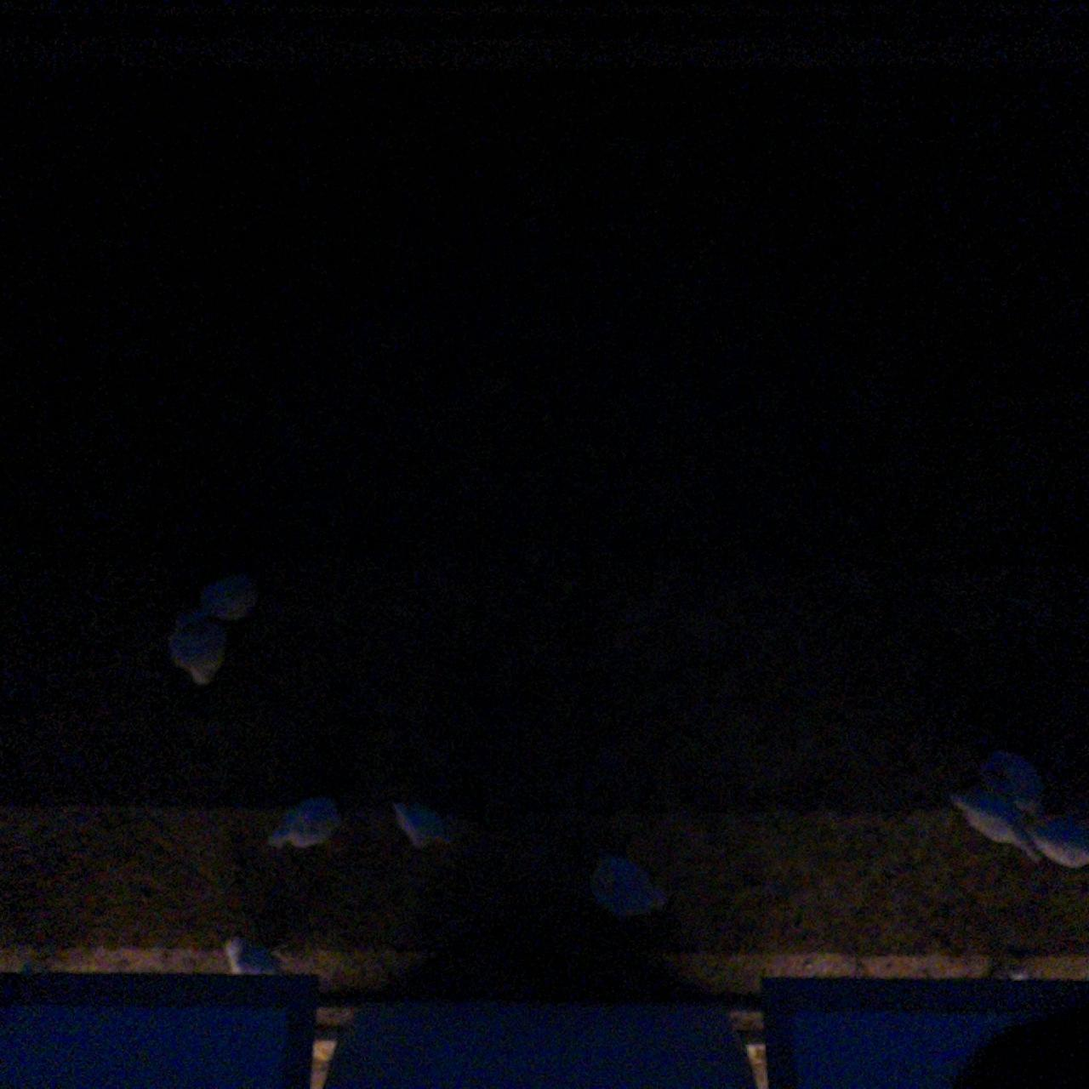chicken: (946, 780, 1045, 861), (584, 848, 670, 921), (977, 744, 1047, 825), (167, 610, 229, 689), (264, 792, 342, 854), (190, 568, 261, 624), (1023, 809, 1089, 869), (219, 932, 288, 984), (387, 797, 454, 850)
